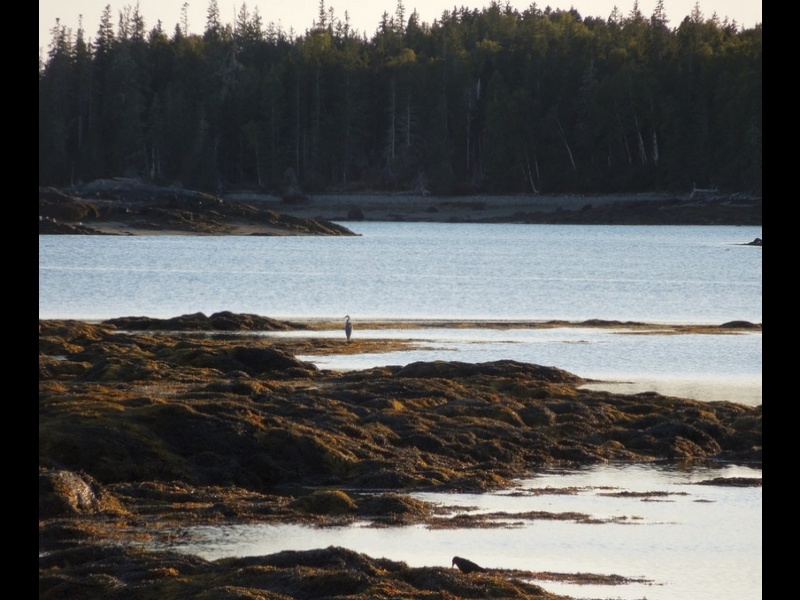heron: (342, 314, 354, 336)
